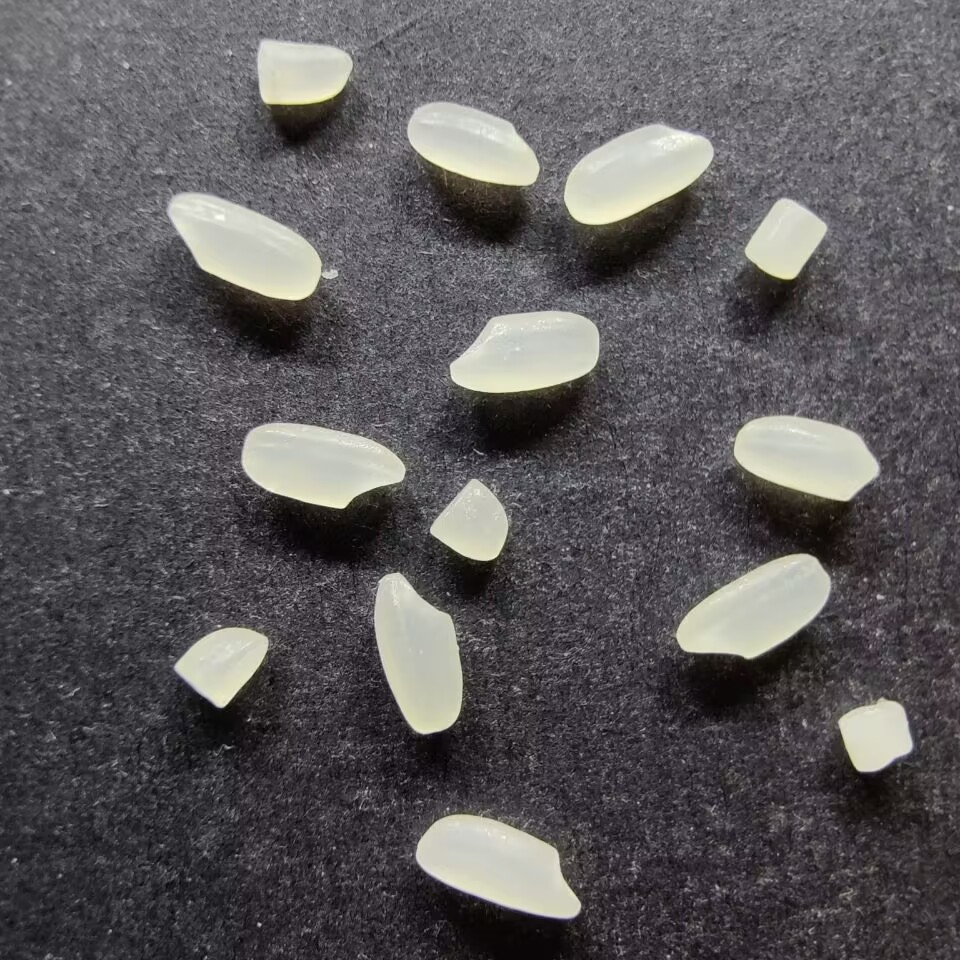broken: (172, 625, 270, 711), (742, 197, 830, 281), (428, 476, 510, 562), (255, 38, 355, 107), (838, 696, 915, 774)
rice: (413, 812, 583, 920), (163, 191, 322, 300), (674, 552, 833, 660), (562, 122, 716, 226), (371, 569, 465, 737), (239, 421, 406, 509), (731, 414, 882, 504), (447, 308, 601, 394), (405, 100, 541, 188)
